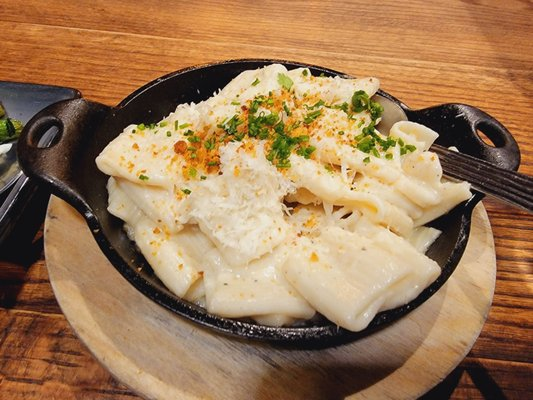burger: (372, 87, 522, 171)
sushi: (14, 31, 519, 400), (94, 61, 515, 355)
